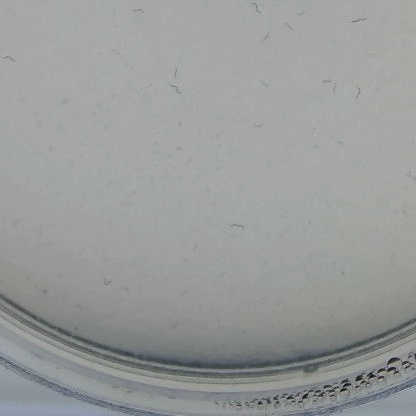worm: (163, 82, 184, 101), (225, 221, 248, 235), (165, 64, 184, 80), (347, 14, 368, 28), (97, 277, 117, 291), (349, 84, 365, 101), (0, 54, 18, 66), (247, 121, 268, 131), (282, 19, 296, 34), (258, 30, 272, 45), (403, 170, 416, 185), (321, 73, 334, 87), (333, 136, 347, 148), (295, 7, 313, 16), (133, 3, 145, 15), (329, 83, 340, 96), (259, 78, 273, 88), (107, 48, 123, 56)
